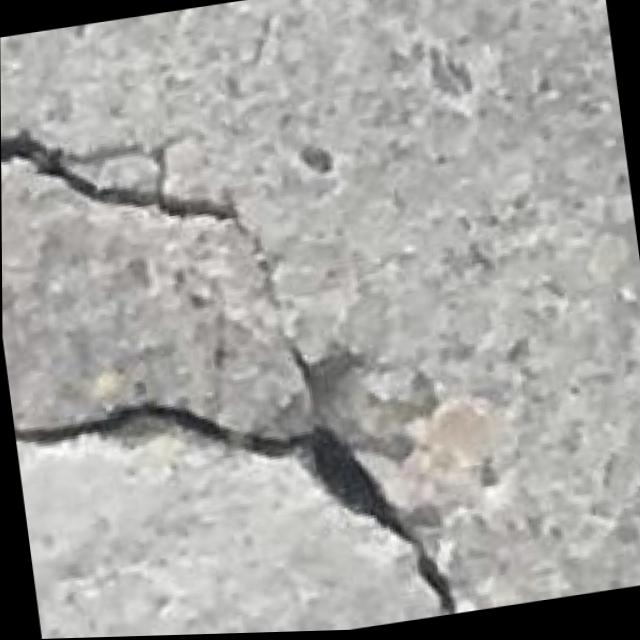Crack: (0, 65, 448, 640)
